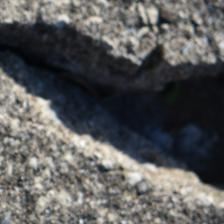Crack: (6, 17, 213, 178)
